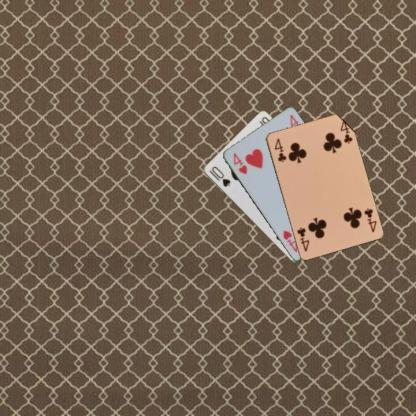10s: (206, 164, 232, 188)
4c: (361, 205, 377, 234), (272, 136, 288, 163)
4h: (231, 150, 249, 177)
